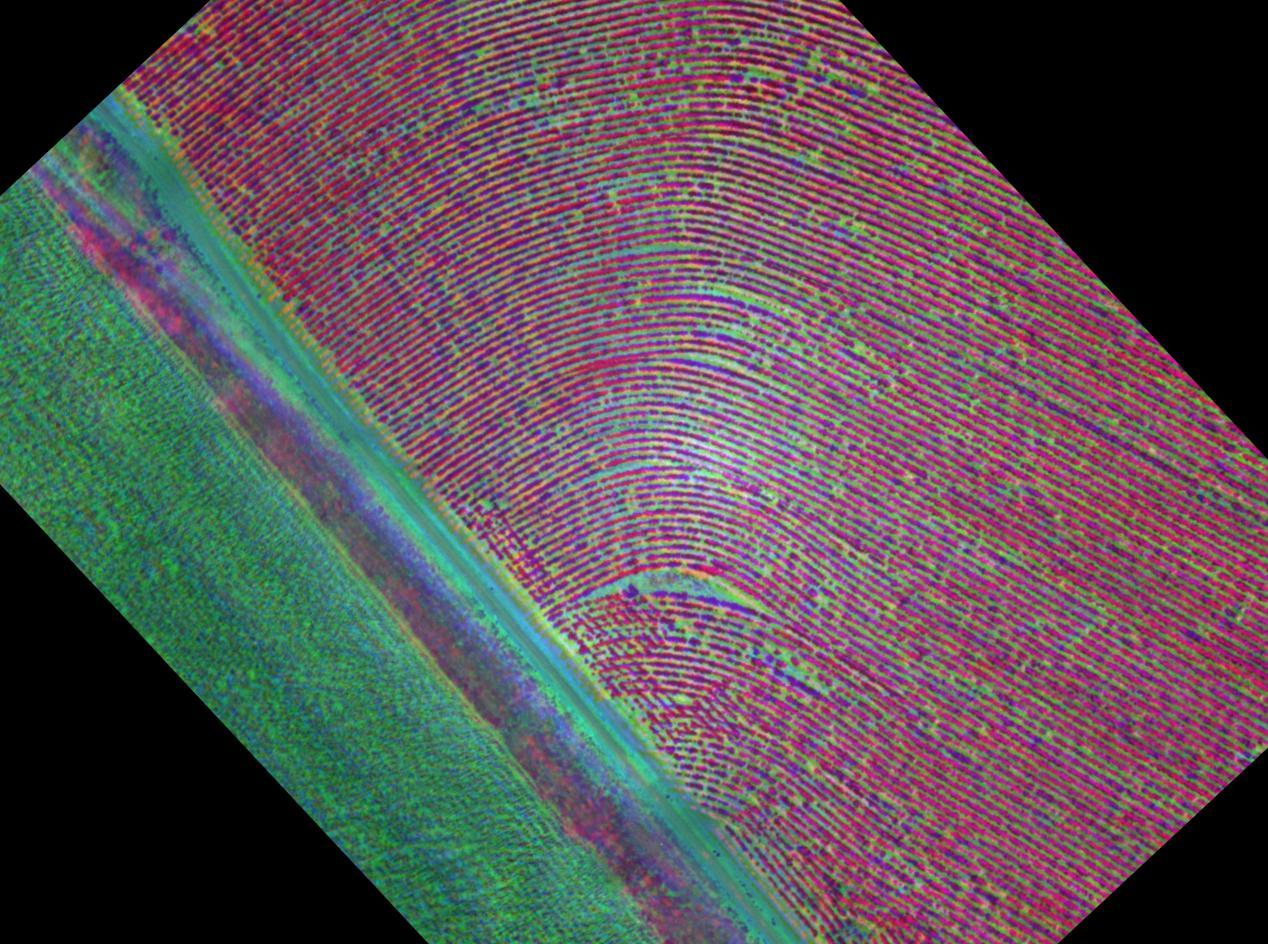dc: (718, 18, 869, 192), (691, 243, 829, 388), (586, 563, 772, 668), (461, 43, 581, 175)
